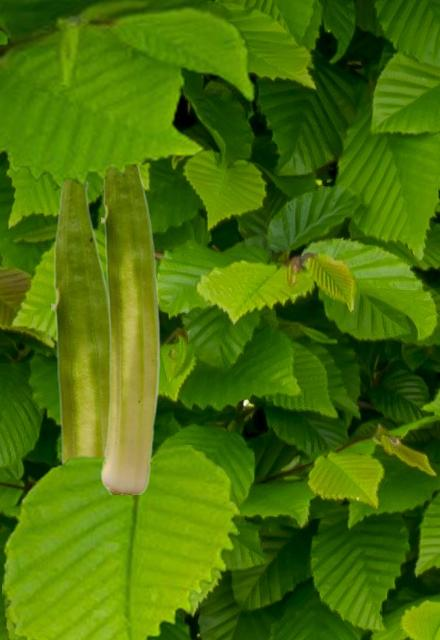okra: (101, 166, 159, 493), (51, 179, 108, 463)
